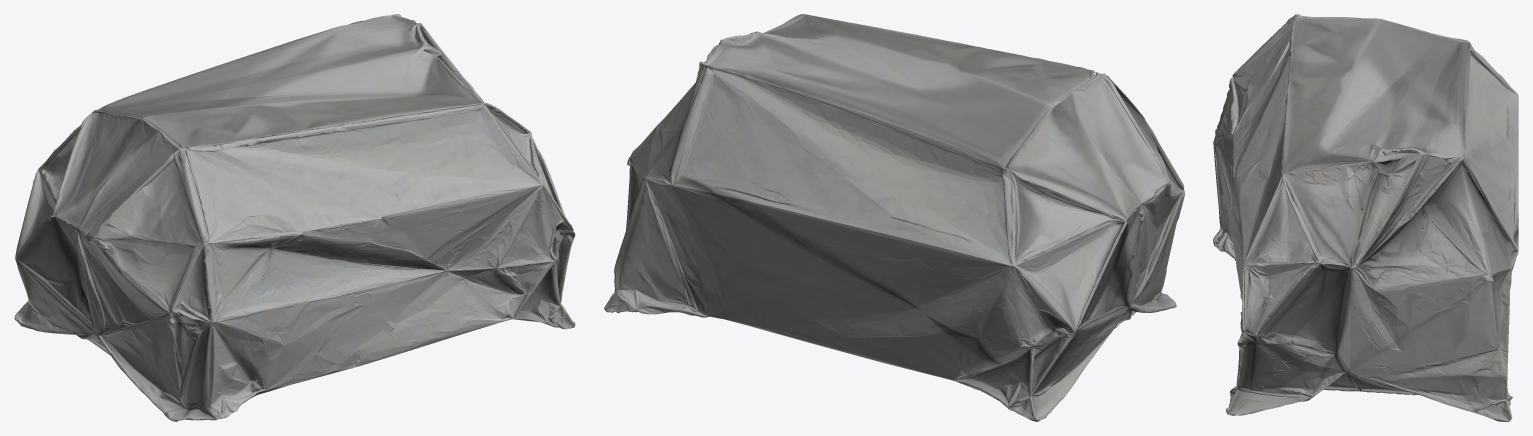
The picture shows the model from 3 angles, left to right: view 1: azimuth 30°, elevation 25°; view 2: azimuth 150°, elevation 25°; view 3: azimuth 270°, elevation 25°; orthographic projection. The views are drawn at different scales.
Visible parts, largest first — view 1: geometry_0; view 2: geometry_0; view 3: geometry_0.
Boxes of the visible parts, x1,y1,x2,y2 form: geometry_0: [14, 14, 575, 421]; geometry_0: [604, 14, 1184, 421]; geometry_0: [1213, 14, 1518, 421].
Size of the model in its own units: 1.02 by 0.5394 by 0.6208.
Materials: 1 (1 with a texture image).
